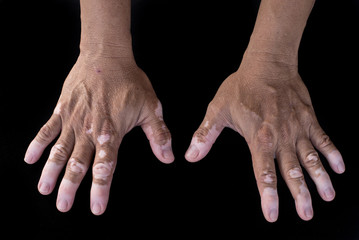vitiligo: (253, 130, 341, 211), (38, 123, 119, 207)
